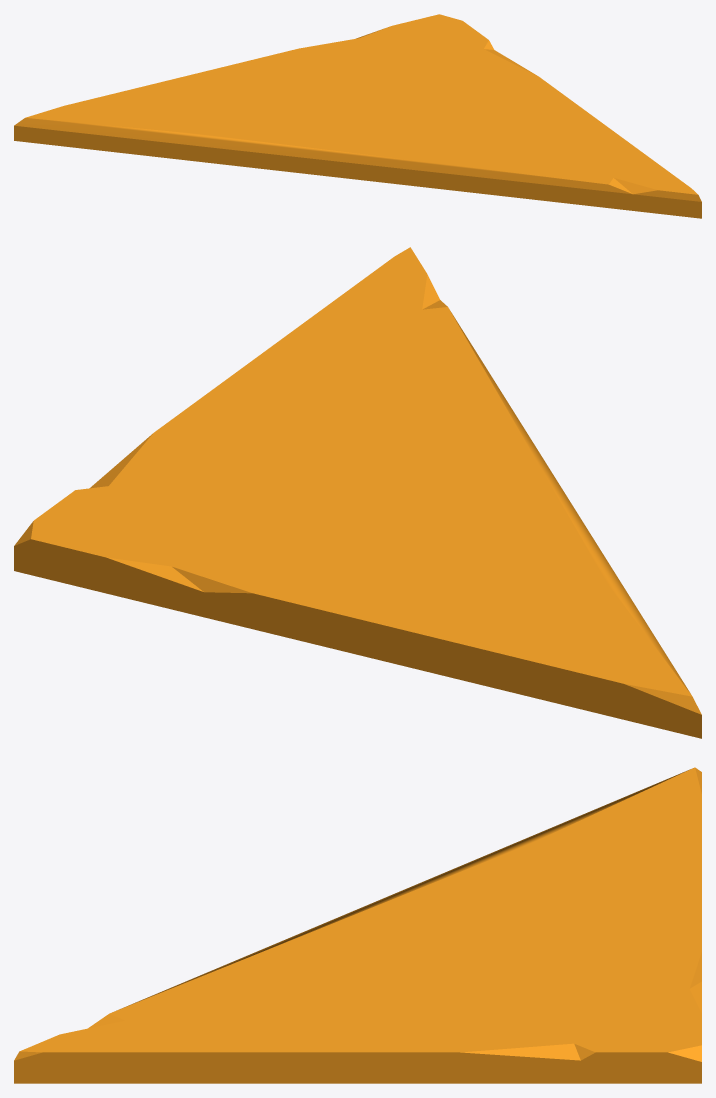
Rendered from SM_Buildings_FloorAngle_2x2_01P.fbx.
3 renders of one model, top to bottom at view 1: azimuth 30°, elevation 25°; view 2: azimuth 150°, elevation 25°; view 3: azimuth 270°, elevation 25°, orthographic. The views are drawn at different scales.
Visible parts, largest first — view 1: SM_Buildings_FloorAngle_2x2_01P; view 2: SM_Buildings_FloorAngle_2x2_01P; view 3: SM_Buildings_FloorAngle_2x2_01P.
Part boxes in pixels (x1,y1,x2,y2): SM_Buildings_FloorAngle_2x2_01P: [14, 14, 701, 218]; SM_Buildings_FloorAngle_2x2_01P: [14, 247, 701, 738]; SM_Buildings_FloorAngle_2x2_01P: [14, 767, 701, 1083].
Size of the model in its own units: 200 by 10 by 200.
